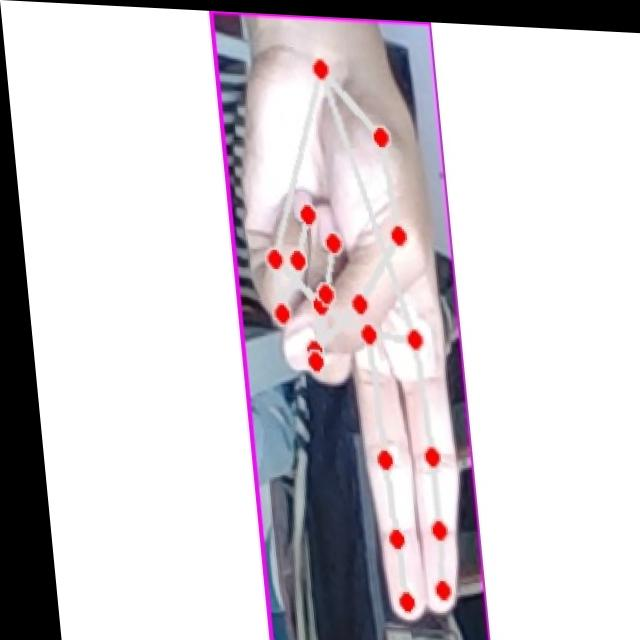U: (227, 45, 464, 628)
